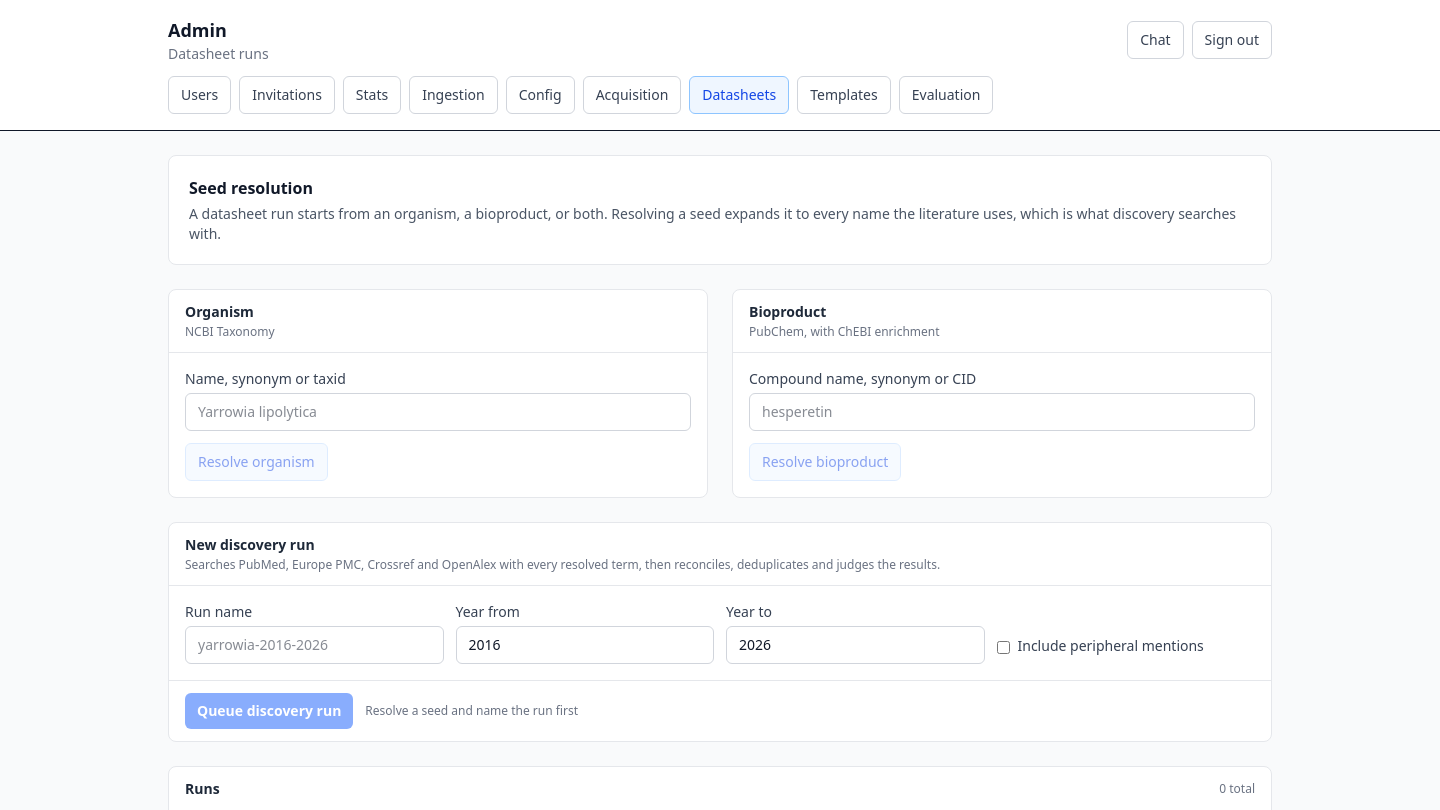
Scenario: AdminDatasheetSeedClient › reports an unmatched seed rather than showing an empty panel
Type "zzzzz" into the field with placeholder "Yarrowia lipolytica" at (438, 412), box [185,393,691,431]
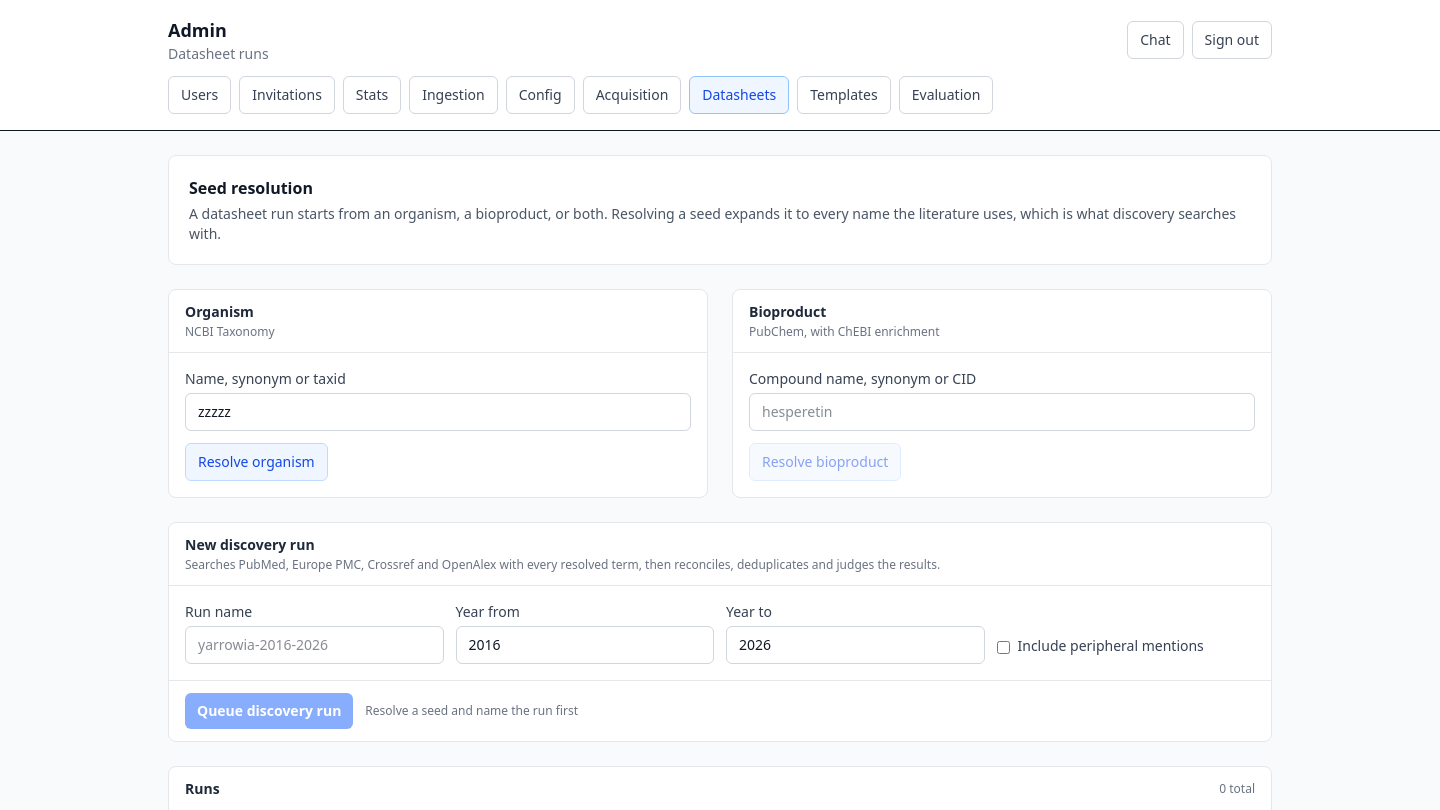
Click the button "Resolve organism" at (256, 462), box [185,443,328,481]
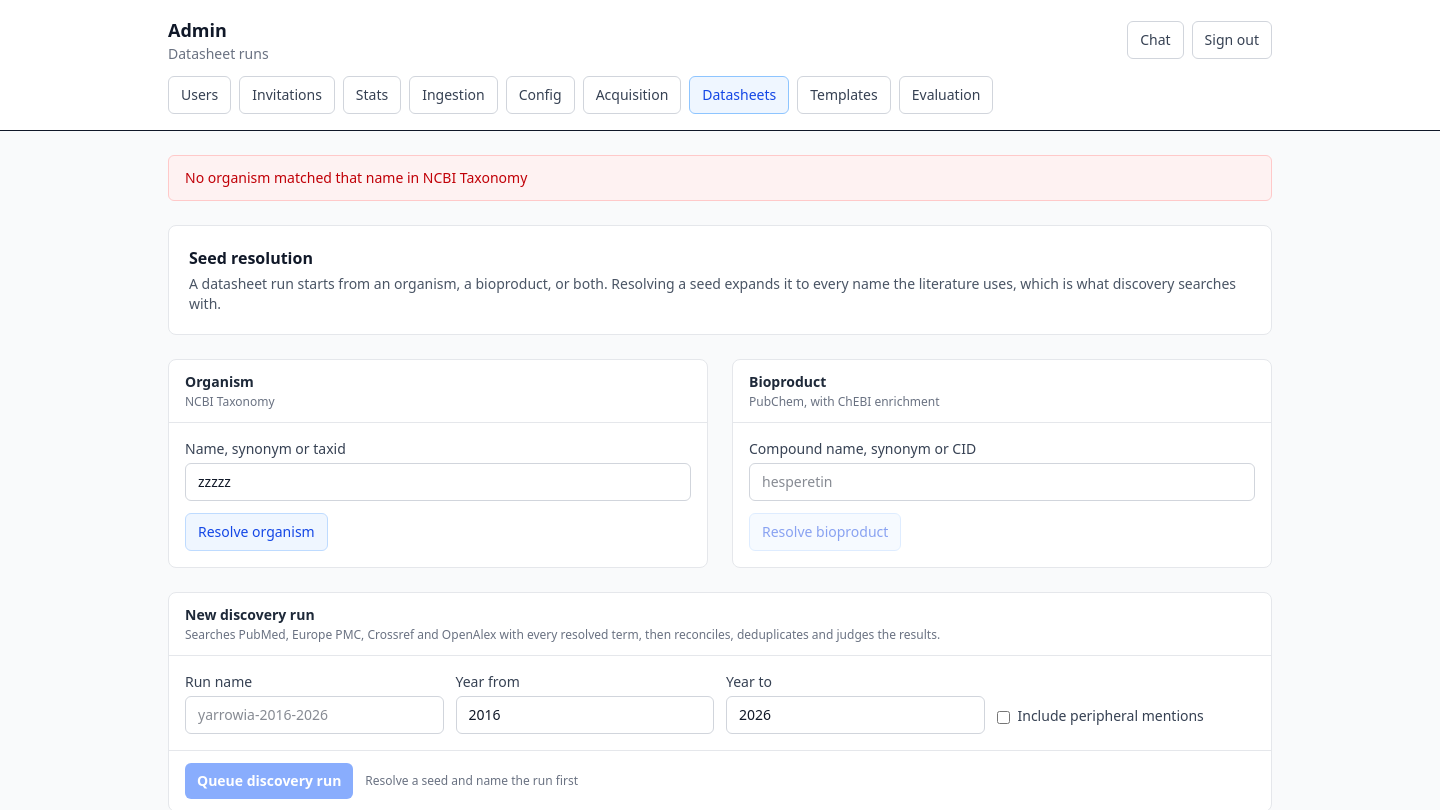
Expected: the message shows "No organism matched", [185,168,527,187]
